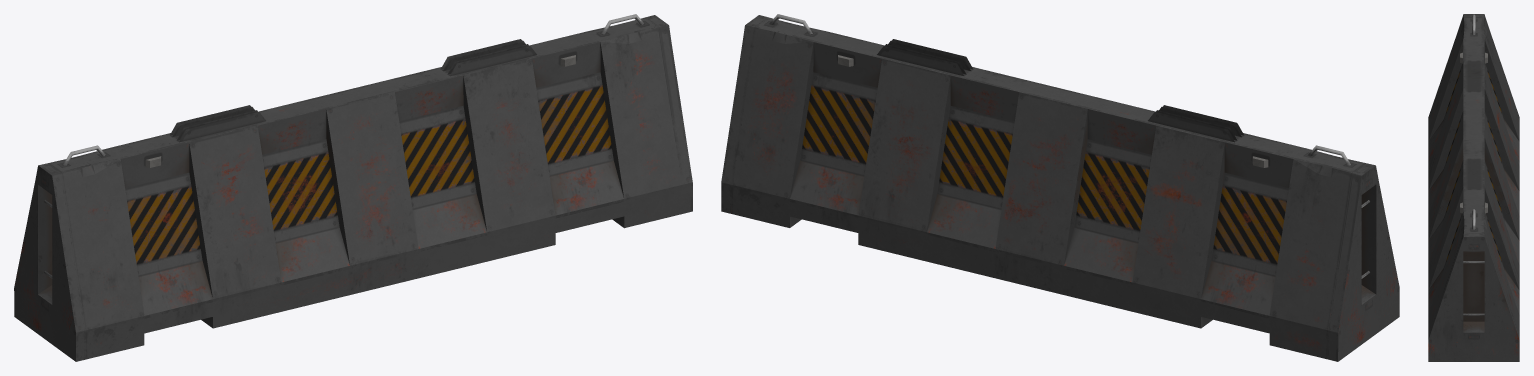
The model's file is TRF0710029.fbx.
3 views of the same model, side by side, from view 1: azimuth 30°, elevation 25°; view 2: azimuth 150°, elevation 25°; view 3: azimuth 270°, elevation 25° (orthographic). The views are drawn at different scales.
Parts seen in each view (by area): view 1: smTRF0710029; view 2: smTRF0710029; view 3: smTRF0710029.
Part boxes in pixels (x1,y1,x2,y2): smTRF0710029: [14, 14, 692, 361]; smTRF0710029: [721, 14, 1399, 361]; smTRF0710029: [1428, 14, 1519, 361].
Size of the model in its own units: 587 by 165 by 102.
Materials: 1 (1 with a texture image).
